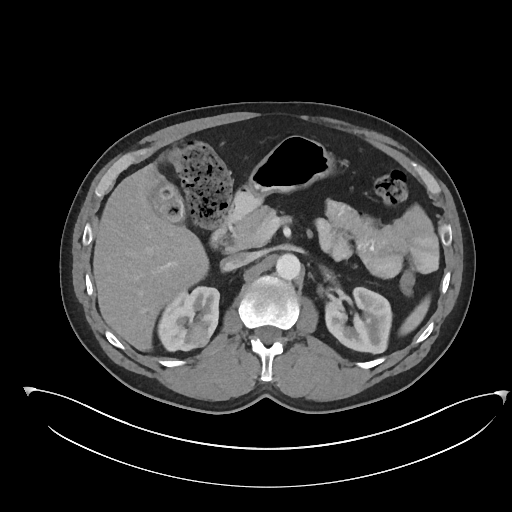Lesion: (179, 316, 213, 348)
